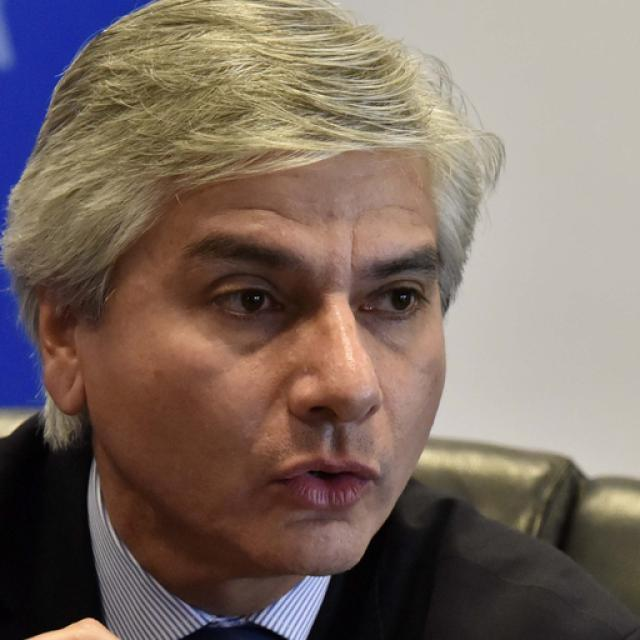anger: (109, 112, 449, 576)
